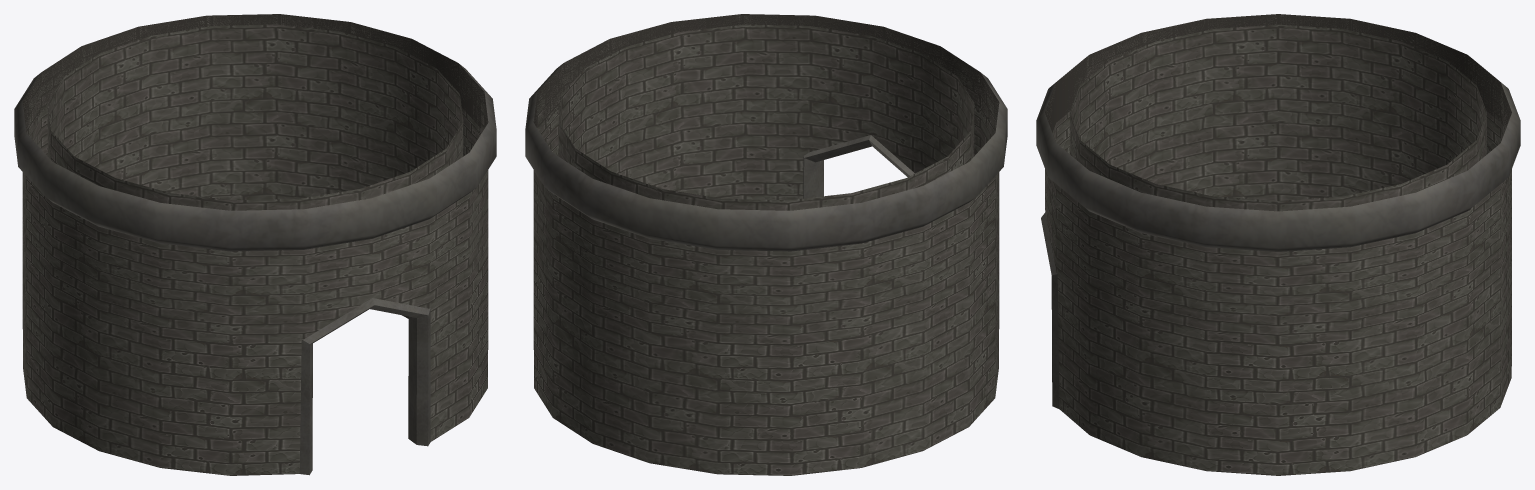
Rendered from Tower_Door.fbx.
The picture shows the model from 3 angles, left to right: view 1: azimuth 30°, elevation 25°; view 2: azimuth 150°, elevation 25°; view 3: azimuth 270°, elevation 25°; orthographic projection.
Visible parts, largest first — view 1: Tower_Door; view 2: Tower_Door; view 3: Tower_Door.
Part boxes in pixels (x1,y1,x2,y2): Tower_Door: (14, 14, 496, 475); Tower_Door: (525, 14, 1007, 475); Tower_Door: (1036, 14, 1520, 475).
Size of the model in its own units: 58.02 by 35.01 by 58.02.
